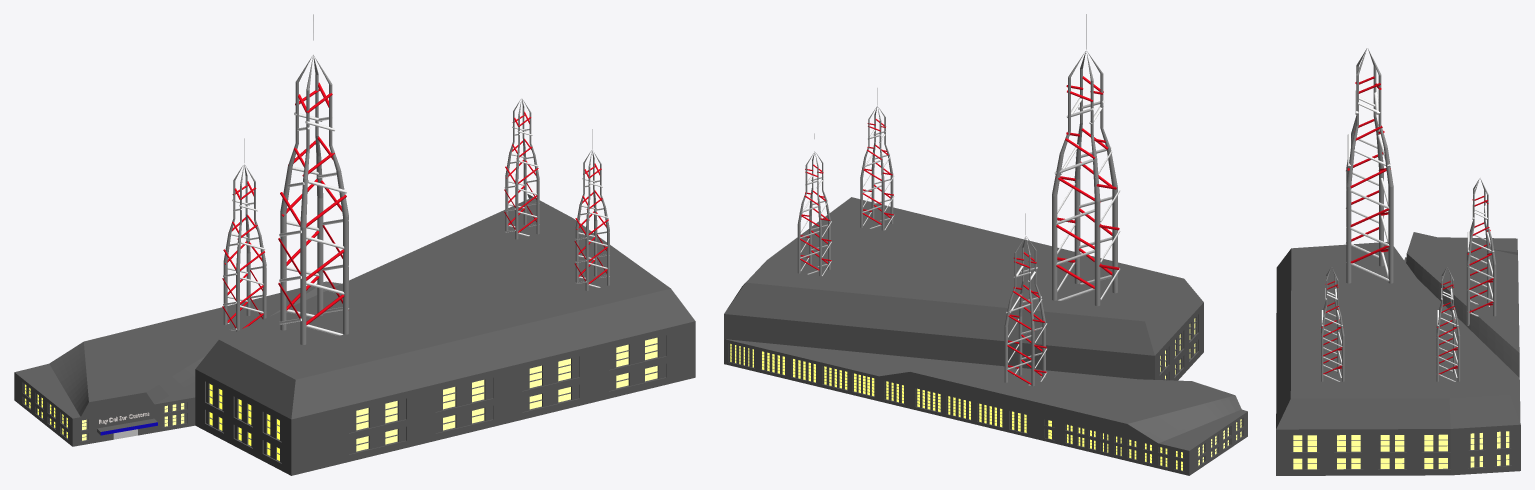
The model's file is el_paria_border_crossing_main_building.fbx.
3 views of the same model, side by side, from view 1: azimuth 30°, elevation 25°; view 2: azimuth 150°, elevation 25°; view 3: azimuth 270°, elevation 25° (orthographic). The views are drawn at different scales.
Parts seen in each view (by area): view 1: EPBC_main_building; view 2: EPBC_main_building; view 3: EPBC_main_building.
Boxes of the visible parts, x1,y1,x2,y2 form: EPBC_main_building: [14, 14, 695, 475]; EPBC_main_building: [724, 14, 1247, 475]; EPBC_main_building: [1276, 48, 1520, 475].
Bounding box in the file's own units: 997 × 713 × 478.
